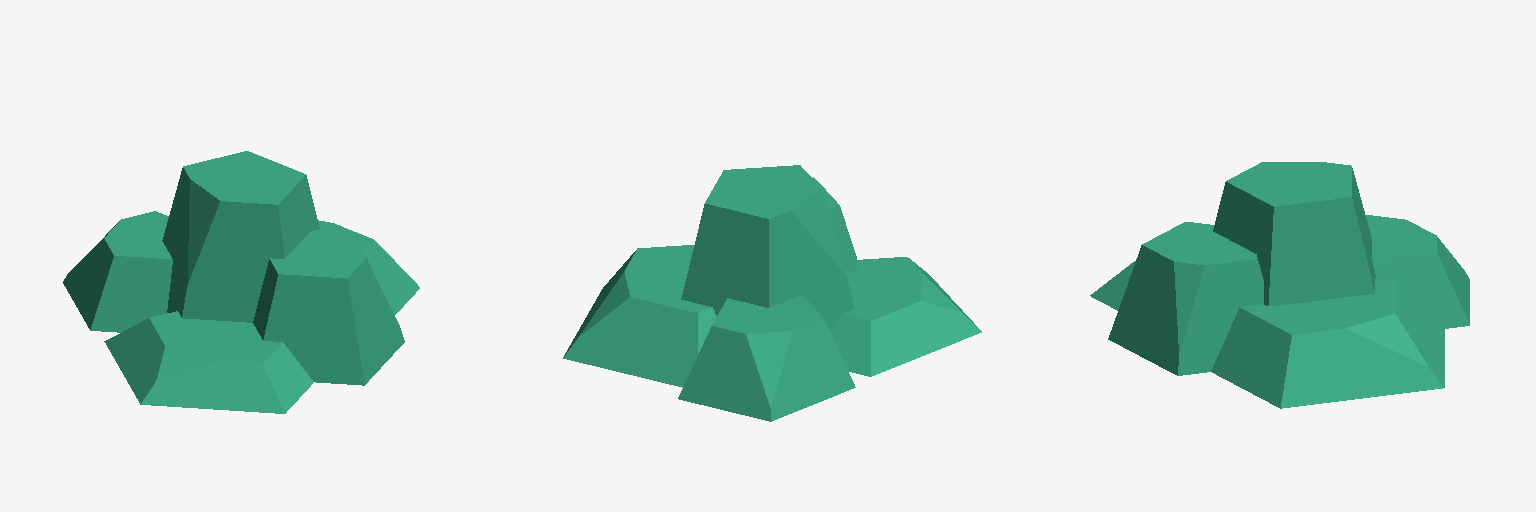
File: detail_rocksLarge.obj
3 views of the same model, side by side, from view 1: azimuth 30°, elevation 25°; view 2: azimuth 150°, elevation 25°; view 3: azimuth 270°, elevation 25° (orthographic).
Visible parts, largest first — view 1: detail_rocksLarge; view 2: detail_rocksLarge; view 3: detail_rocksLarge.
Part boxes in pixels (x1,y1,x2,y2): detail_rocksLarge: (63,151,419,413); detail_rocksLarge: (563,165,981,421); detail_rocksLarge: (1090,162,1469,408).
Size of the model in its own units: 1 by 0.4186 by 1.